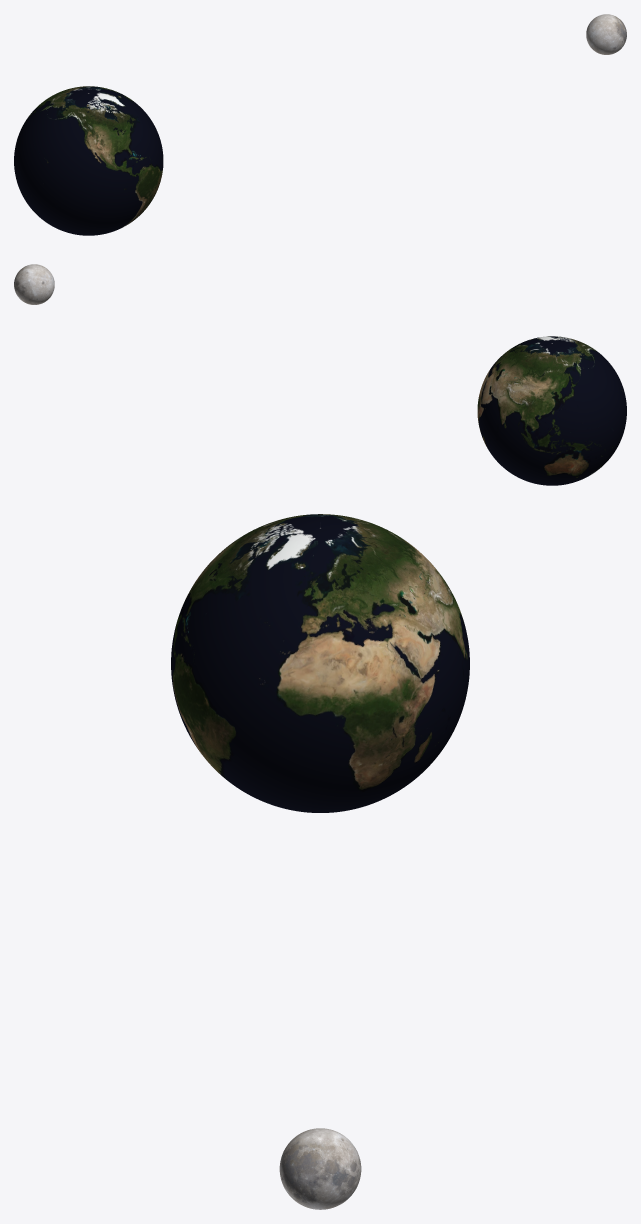
The model's file is luz-m.glb.
3 views of the same model, one above another, from view 1: azimuth 30°, elevation 25°; view 2: azimuth 150°, elevation 25°; view 3: azimuth 270°, elevation 25° (orthographic). The views are drawn at different scales.
Parts seen in each view (by area): view 1: terra, lua; view 2: terra, lua; view 3: terra, lua.
Part boxes in pixels (x1=…): terra: x1=14, y1=86, x2=163, y2=235; lua: x1=586, y1=14, x2=626, y2=54; terra: x1=477, y1=336, x2=626, y2=485; lua: x1=14, y1=264, x2=54, y2=304; terra: x1=171, y1=514, x2=469, y2=812; lua: x1=279, y1=1128, x2=361, y2=1209.
Size of the model in its own units: 9.27 by 2 by 2.
Materials: 2 (2 with a texture image).
